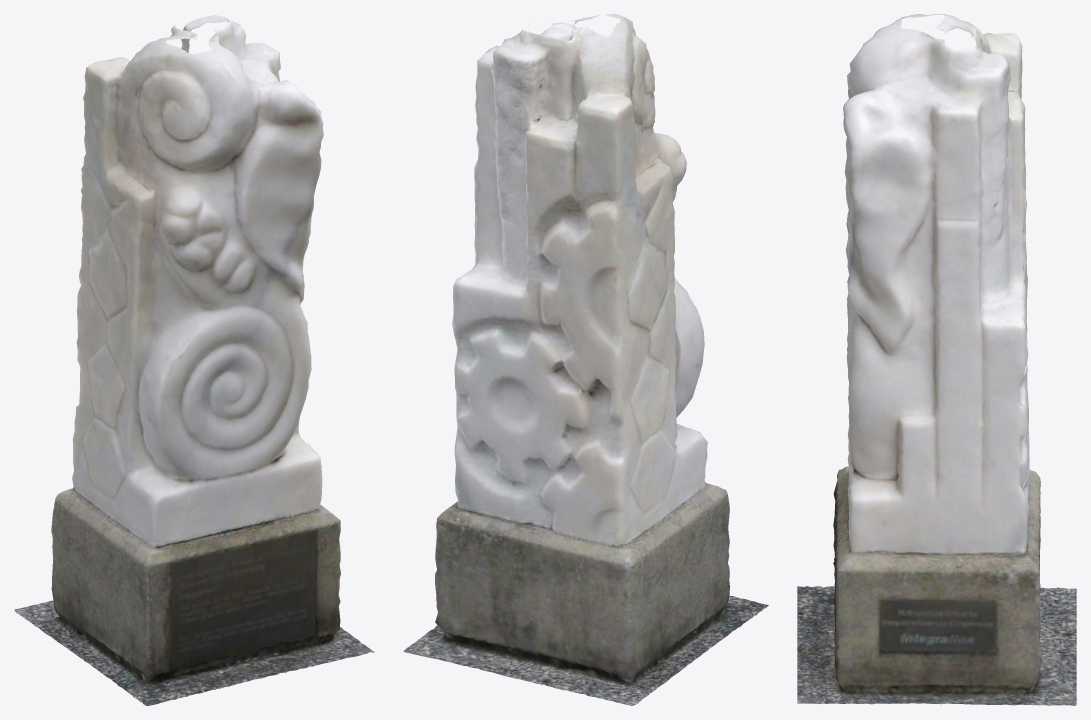
The model's file is integration_sculpture.glb.
3 views of the same model, side by side, from view 1: azimuth 30°, elevation 25°; view 2: azimuth 150°, elevation 25°; view 3: azimuth 270°, elevation 25° (orthographic). The views are drawn at different scales.
Visible parts, largest first — view 1: 0c1e5499-1535-424d-bbc5-2b889e7bf489_0_2; view 2: 0c1e5499-1535-424d-bbc5-2b889e7bf489_0_2; view 3: 0c1e5499-1535-424d-bbc5-2b889e7bf489_0_2.
Part boxes in pixels (<box>): 0c1e5499-1535-424d-bbc5-2b889e7bf489_0_2: <box>14,15,374,705</box>; 0c1e5499-1535-424d-bbc5-2b889e7bf489_0_2: <box>403,14,768,705</box>; 0c1e5499-1535-424d-bbc5-2b889e7bf489_0_2: <box>797,14,1076,705</box>.
Size of the model in its own units: 0.3162 by 0.7897 by 0.3222.
Materials: 1 (1 with a texture image).
